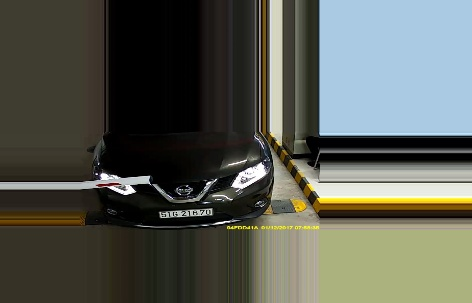plate: (156, 205, 213, 217)
